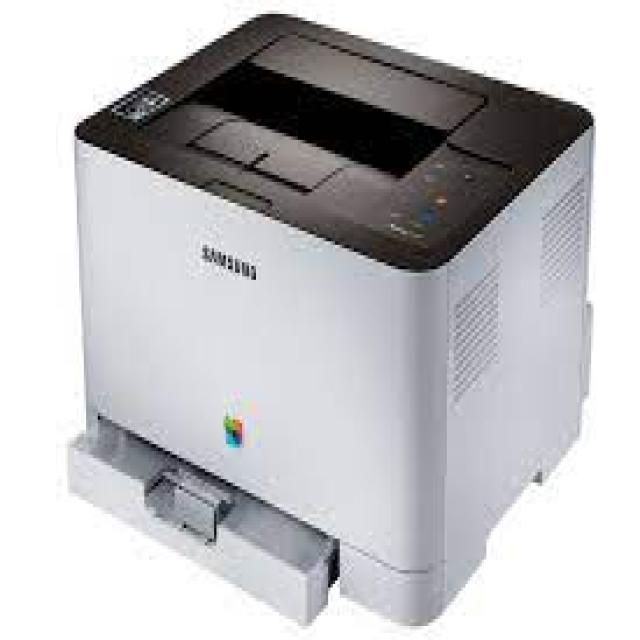printer: (61, 3, 604, 617)
